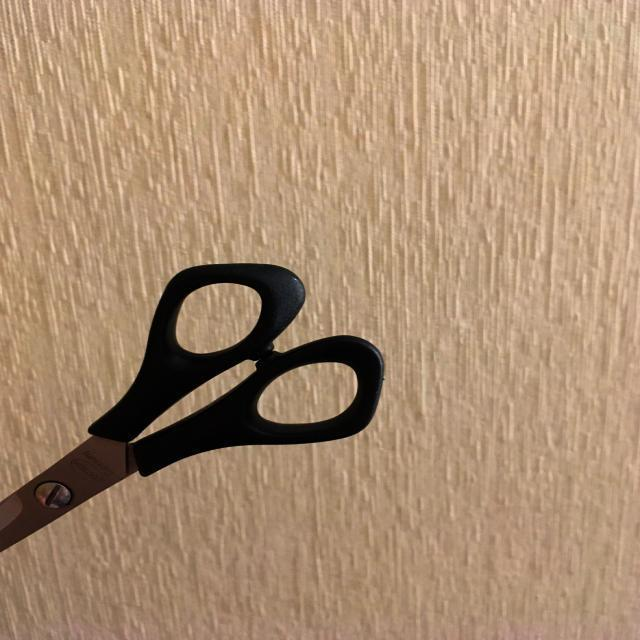scissors: (0, 263, 385, 553)
